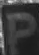Parking: (3, 4, 34, 47)
